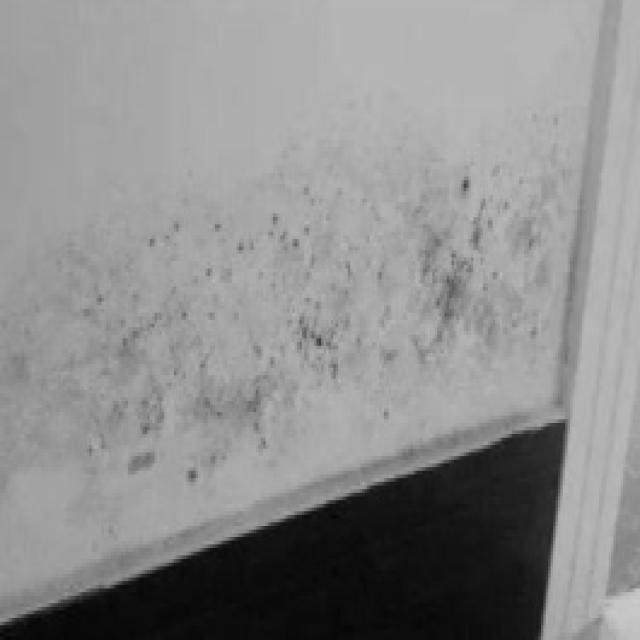stain marks: (4, 165, 200, 508), (362, 106, 539, 420), (205, 169, 358, 464), (538, 103, 574, 250)
